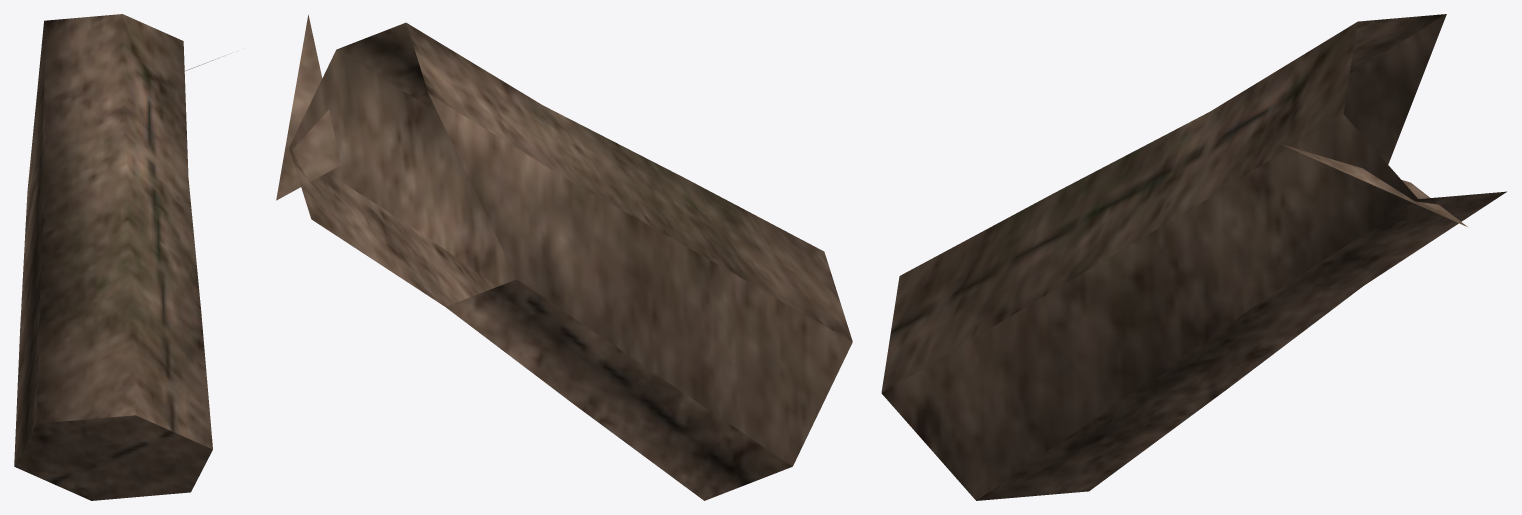
File: hand_right.gltf
The picture shows the model from 3 angles, left to right: view 1: azimuth 30°, elevation 25°; view 2: azimuth 150°, elevation 25°; view 3: azimuth 270°, elevation 25°; orthographic projection. The views are drawn at different scales.
Parts seen in each view (by area): view 1: doll_Hanging Doll_0.003; view 2: doll_Hanging Doll_0.003; view 3: doll_Hanging Doll_0.003.
Boxes of the visible parts, bbox=[...] form: doll_Hanging Doll_0.003: bbox=[14, 14, 222, 500]; doll_Hanging Doll_0.003: bbox=[276, 14, 852, 500]; doll_Hanging Doll_0.003: bbox=[881, 14, 1506, 500].
Bounding box in the file's own units: 61.97 × 75.38 × 76.77.
Materials: 1 (1 with a texture image).
